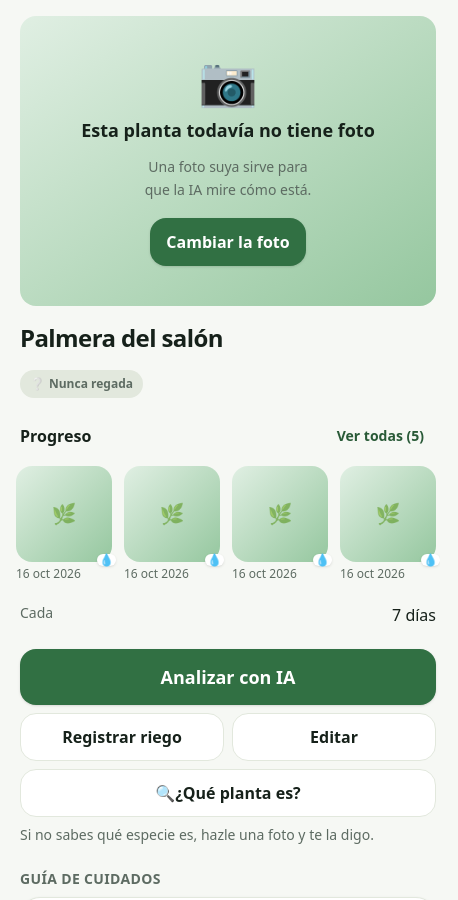
Test: <DetallePlanta> › con más fotos que las visibles, "Ver todas (N)" las enseña sin salir de la sección
Expected: the heading "Progreso" is shown, [20,424,91,448]
Click the button "Ver todas (5)" at point(380, 436), box [325,414,436,458]
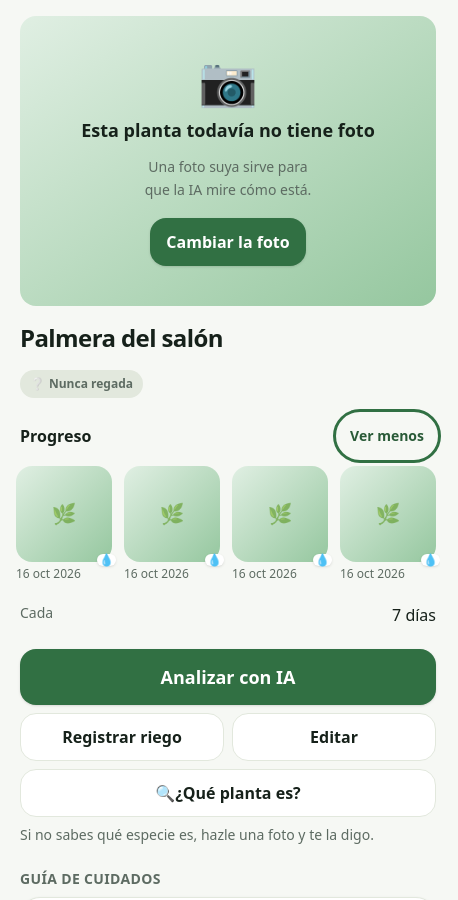
Now the button "Ver menos" is shown, box [338,414,436,458]
